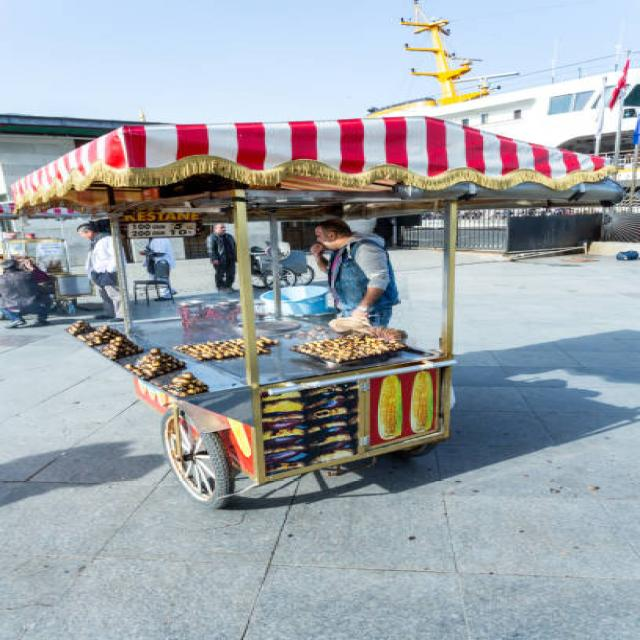Emperan: (0, 118, 619, 515)
